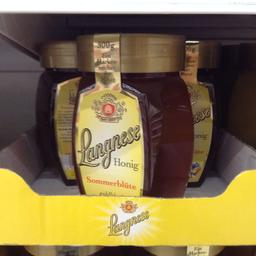honey: (72, 32, 194, 198)
